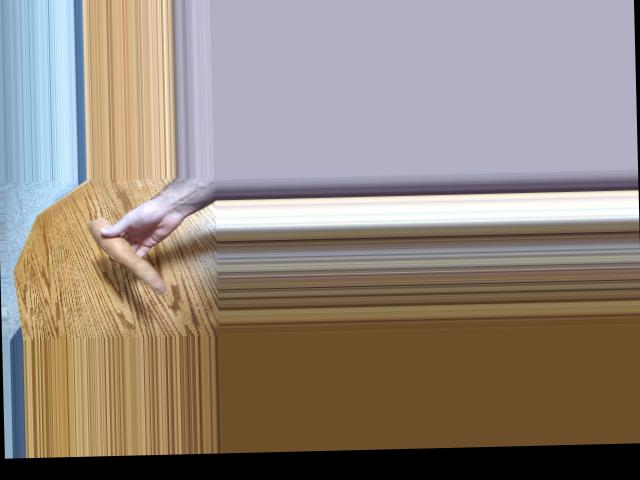sweet_potato: (90, 215, 165, 294)
